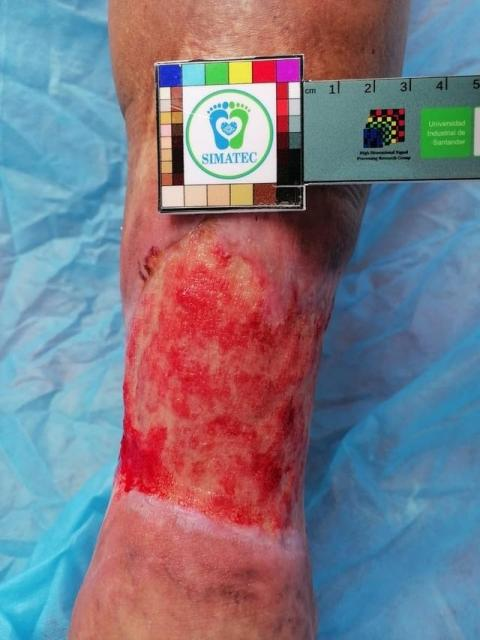wound: (118, 217, 337, 546)
